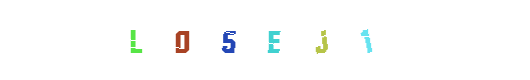0: (142, 0, 222, 80)
1: (266, 0, 346, 80)
5: (188, 0, 268, 80)
E: (225, 0, 305, 80)
J: (241, 0, 321, 80)
L: (94, 0, 174, 80)
